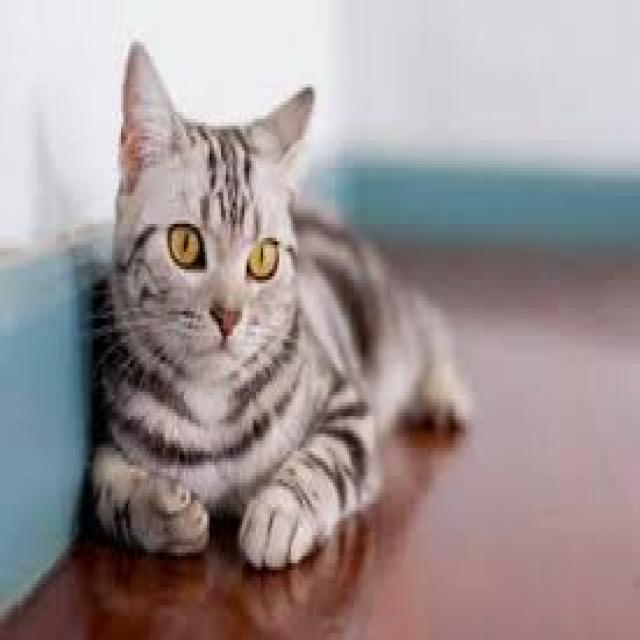Cat: (79, 33, 476, 576)
